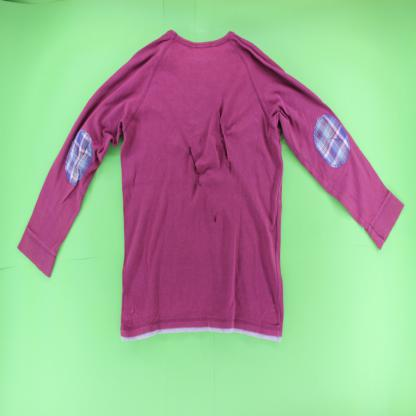hole: (217, 104, 233, 173), (188, 143, 203, 190)
